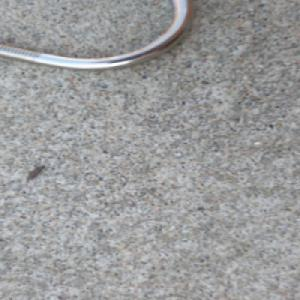ClampPart: (0, 0, 197, 73)
